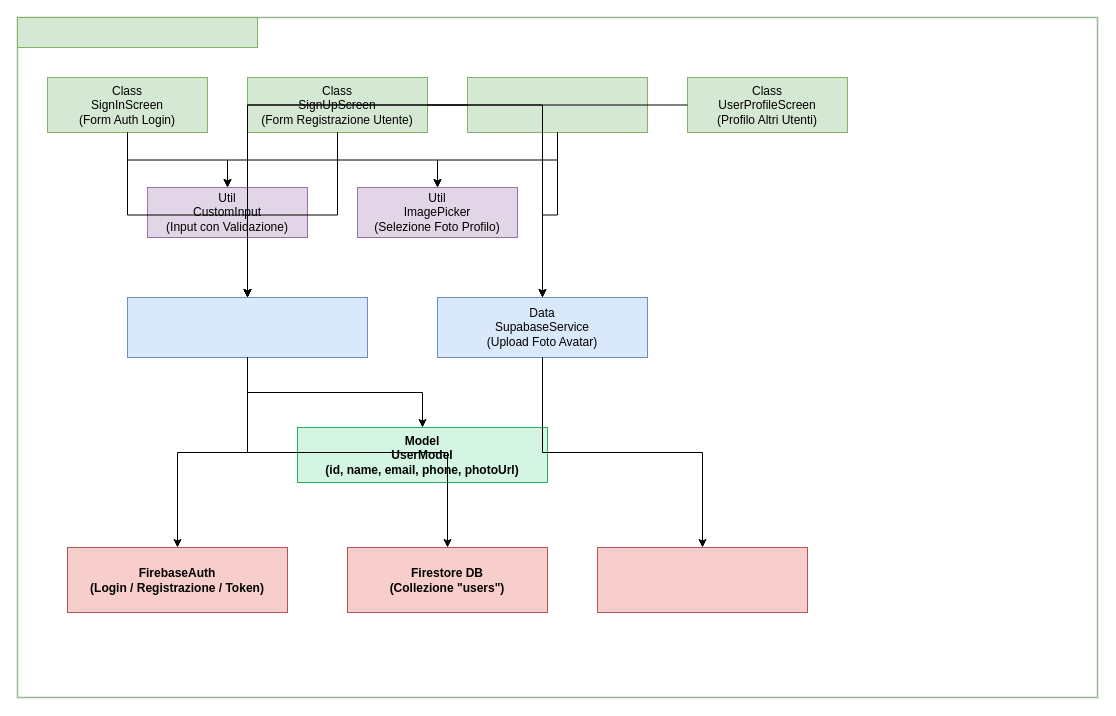
Some shapes in this 1116 by 716 pixel diagram are drawn without their labels. The shapes that lost their labels are listed below. From the top down, each one's centre as x and y in pixels, then its label:
point (137, 32): GESTIONE UTENTE E AUTENTICAZIONE
point (557, 104): Class ProfileTab (Profilo Utente & Miei Post)
point (247, 327): Data FirebaseService (Auth & User Profile Streams)
point (702, 579): Supabase Storage (Bucket "avatars")
